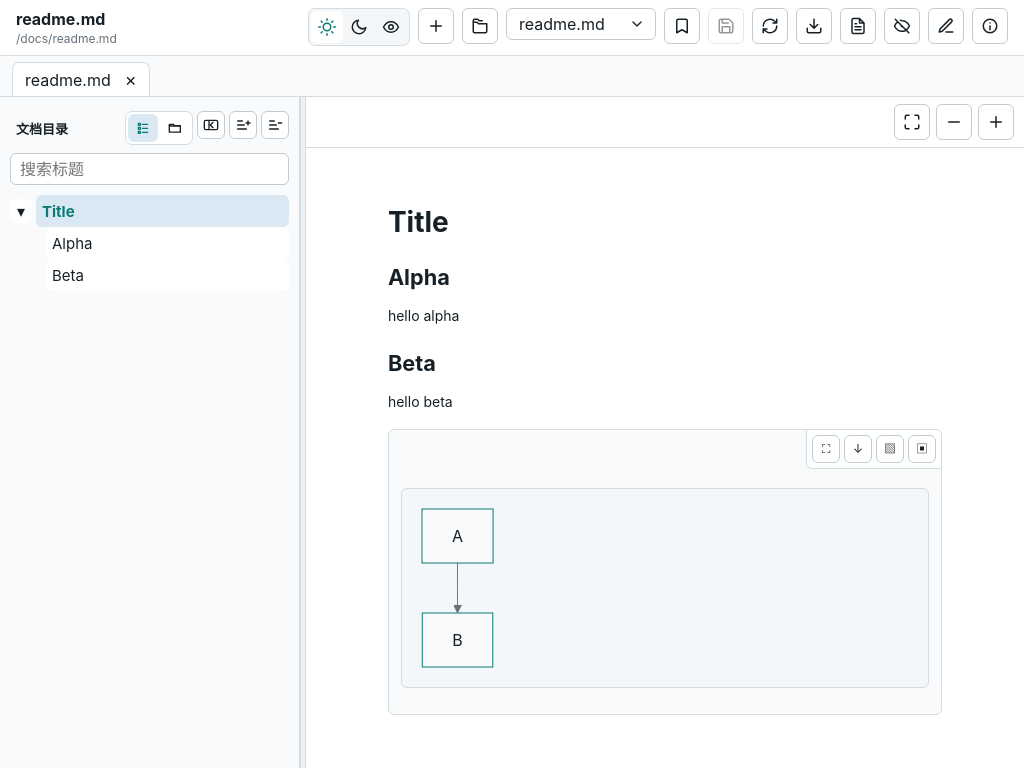
Test: App › filters the table of contents
This screenshot has width=1024, height=768.
Type "beta" into the search field with test id "toc-search" at (150, 169), box left=10, top=153, right=289, bottom=185
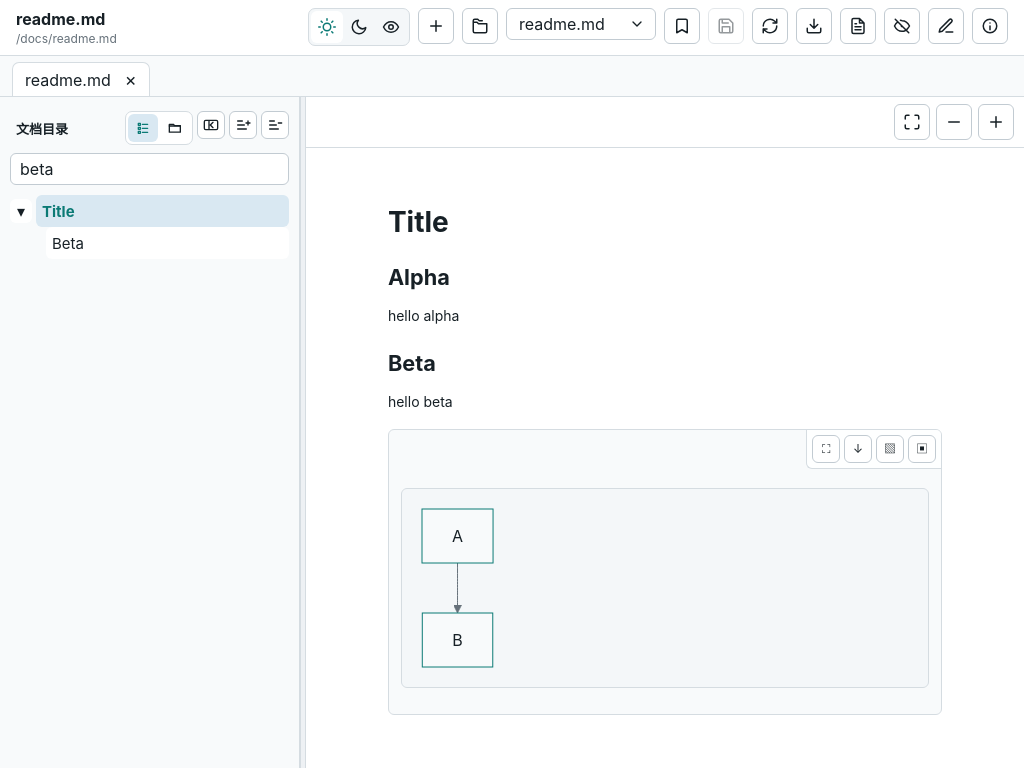
Check: the element with test id "toc" shows "Beta", box left=46, top=227, right=289, bottom=259
Check: the element with test id "toc" no longer shows "Alpha"
